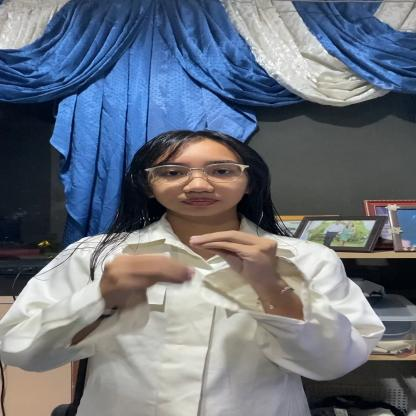Fix: (95, 207, 316, 347)
